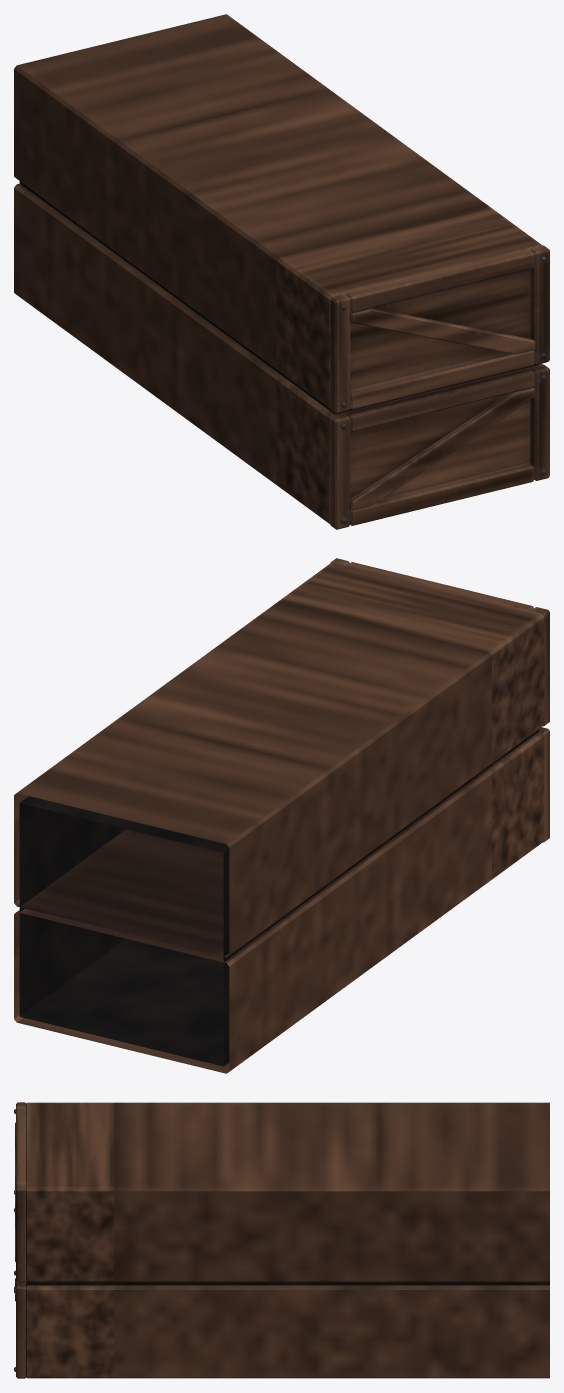
The model's file is StiltVillage_Fill_B.fbx.
3 views of the same model, one above another, from view 1: azimuth 30°, elevation 25°; view 2: azimuth 150°, elevation 25°; view 3: azimuth 270°, elevation 25° (orthographic). The views are drawn at different scales.
Visible parts, largest first — view 1: StiltVillage_Fill_B; view 2: StiltVillage_Fill_B; view 3: StiltVillage_Fill_B.
Boxes of the visible parts, x1,y1,x2,y2 form: StiltVillage_Fill_B: (14, 14, 549, 529); StiltVillage_Fill_B: (14, 558, 549, 1073); StiltVillage_Fill_B: (14, 1102, 549, 1378).
Bounding box in the file's own units: 0.97 × 0.988 × 2.52.
